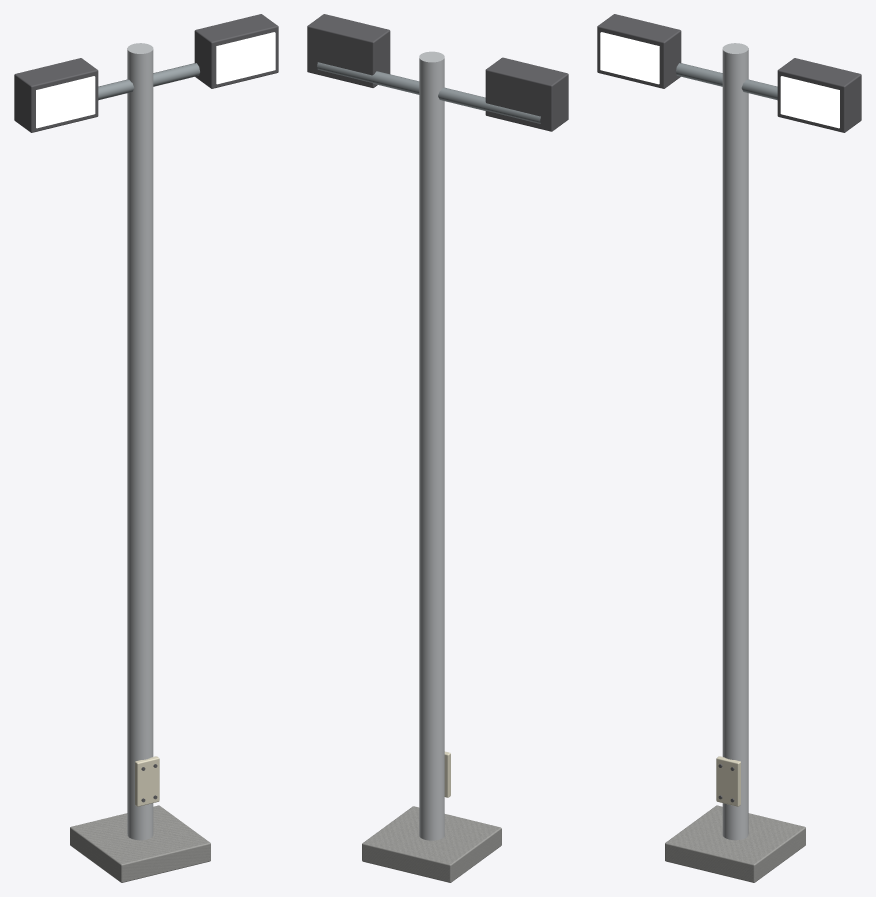
Rendered from prison-complex-builder-floodlight-mast-41b3b228__25645.glb.
3 views of the same model, side by side, from view 1: azimuth 30°, elevation 25°; view 2: azimuth 150°, elevation 25°; view 3: azimuth 330°, elevation 25° (orthographic).
Visible parts, largest first — view 1: floodlight-mast; view 2: floodlight-mast; view 3: floodlight-mast.
Boxes of the visible parts, box(x1,y1,x2,y2) form: floodlight-mast: box(14, 14, 278, 882); floodlight-mast: box(307, 14, 568, 882); floodlight-mast: box(597, 14, 861, 882).
Bounding box in the file's own units: 1.65 × 5.14 × 0.6.
7 materials, 1 textured.
